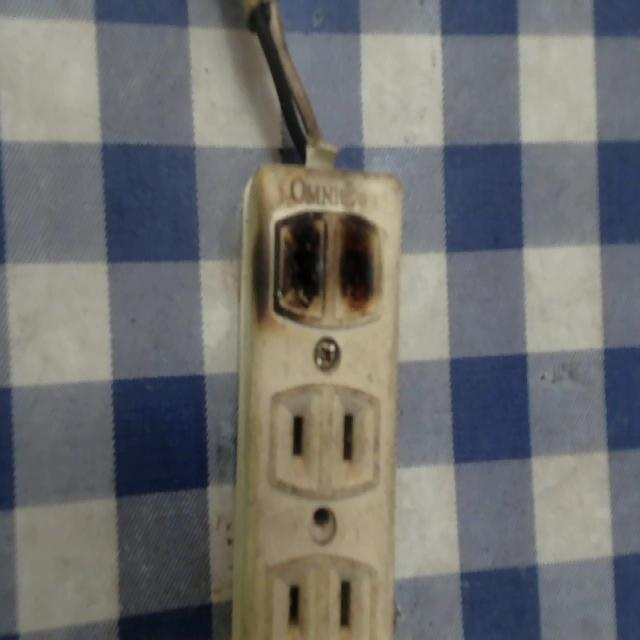-: (251, 196, 400, 329)
